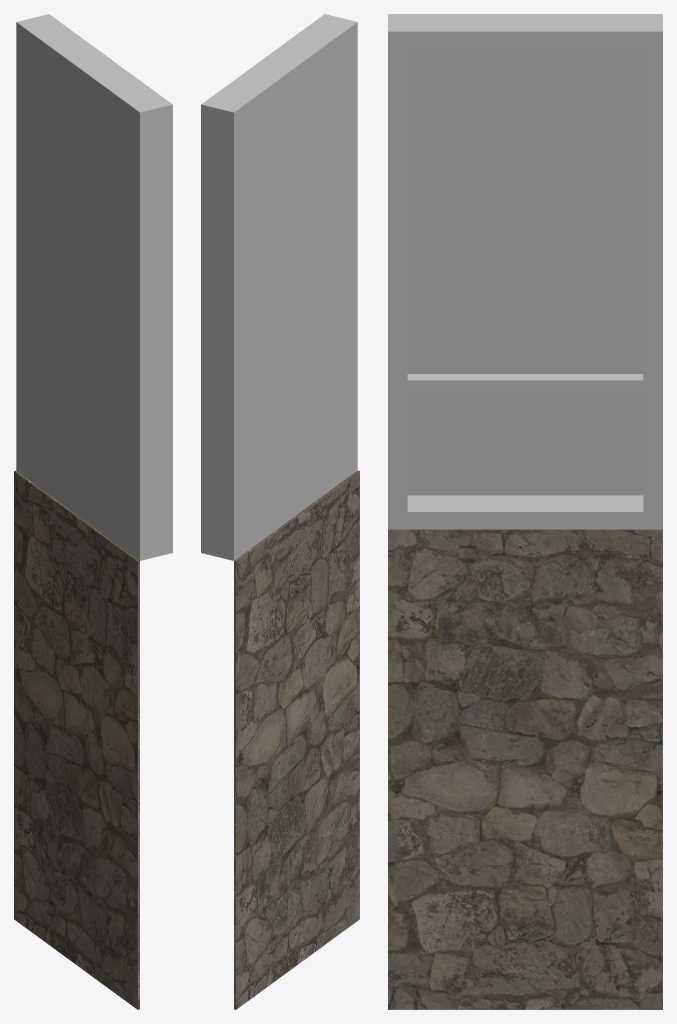
Rendered from HouseWall_1x2.fbx.
3 renders of one model, left to right at view 1: azimuth 30°, elevation 25°; view 2: azimuth 150°, elevation 25°; view 3: azimuth 270°, elevation 25°, orthographic. The views are drawn at different scales.
Visible parts, largest first — view 1: Plane.074; view 2: Plane.074; view 3: Plane.074.
Boxes of the visible parts, <box> form: Plane.074: <box>14,14,172,1009</box>; Plane.074: <box>201,14,359,1009</box>; Plane.074: <box>388,14,662,1009</box>.
Bounding box in the file's own units: 16.34 × 400 × 100.
